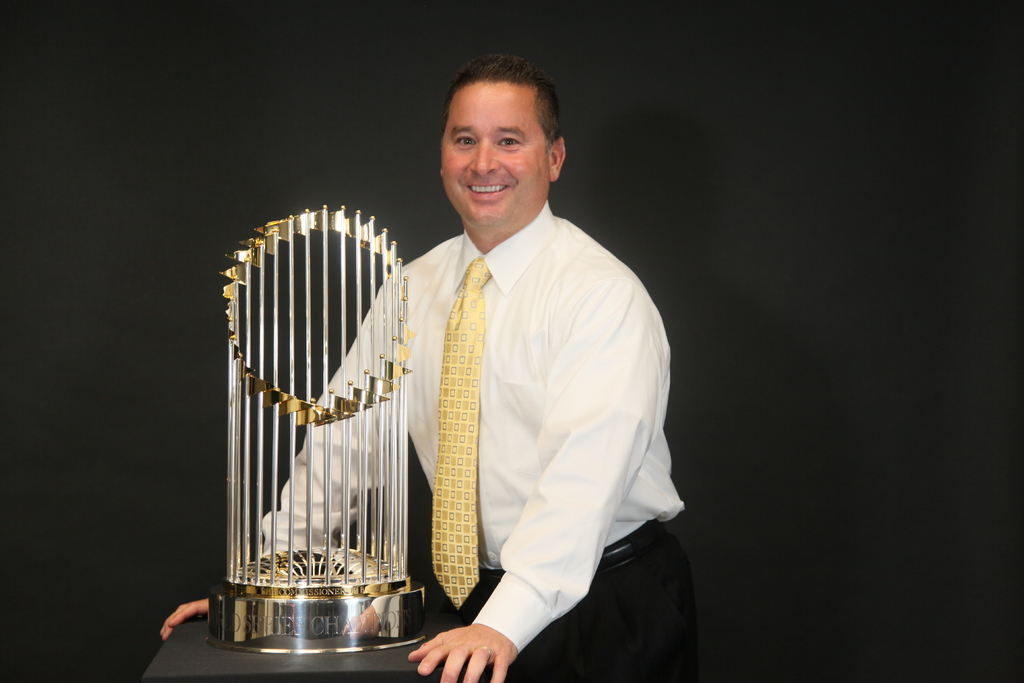Person: (159, 51, 699, 682)
